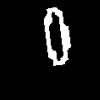chain: (44, 8, 70, 65)
